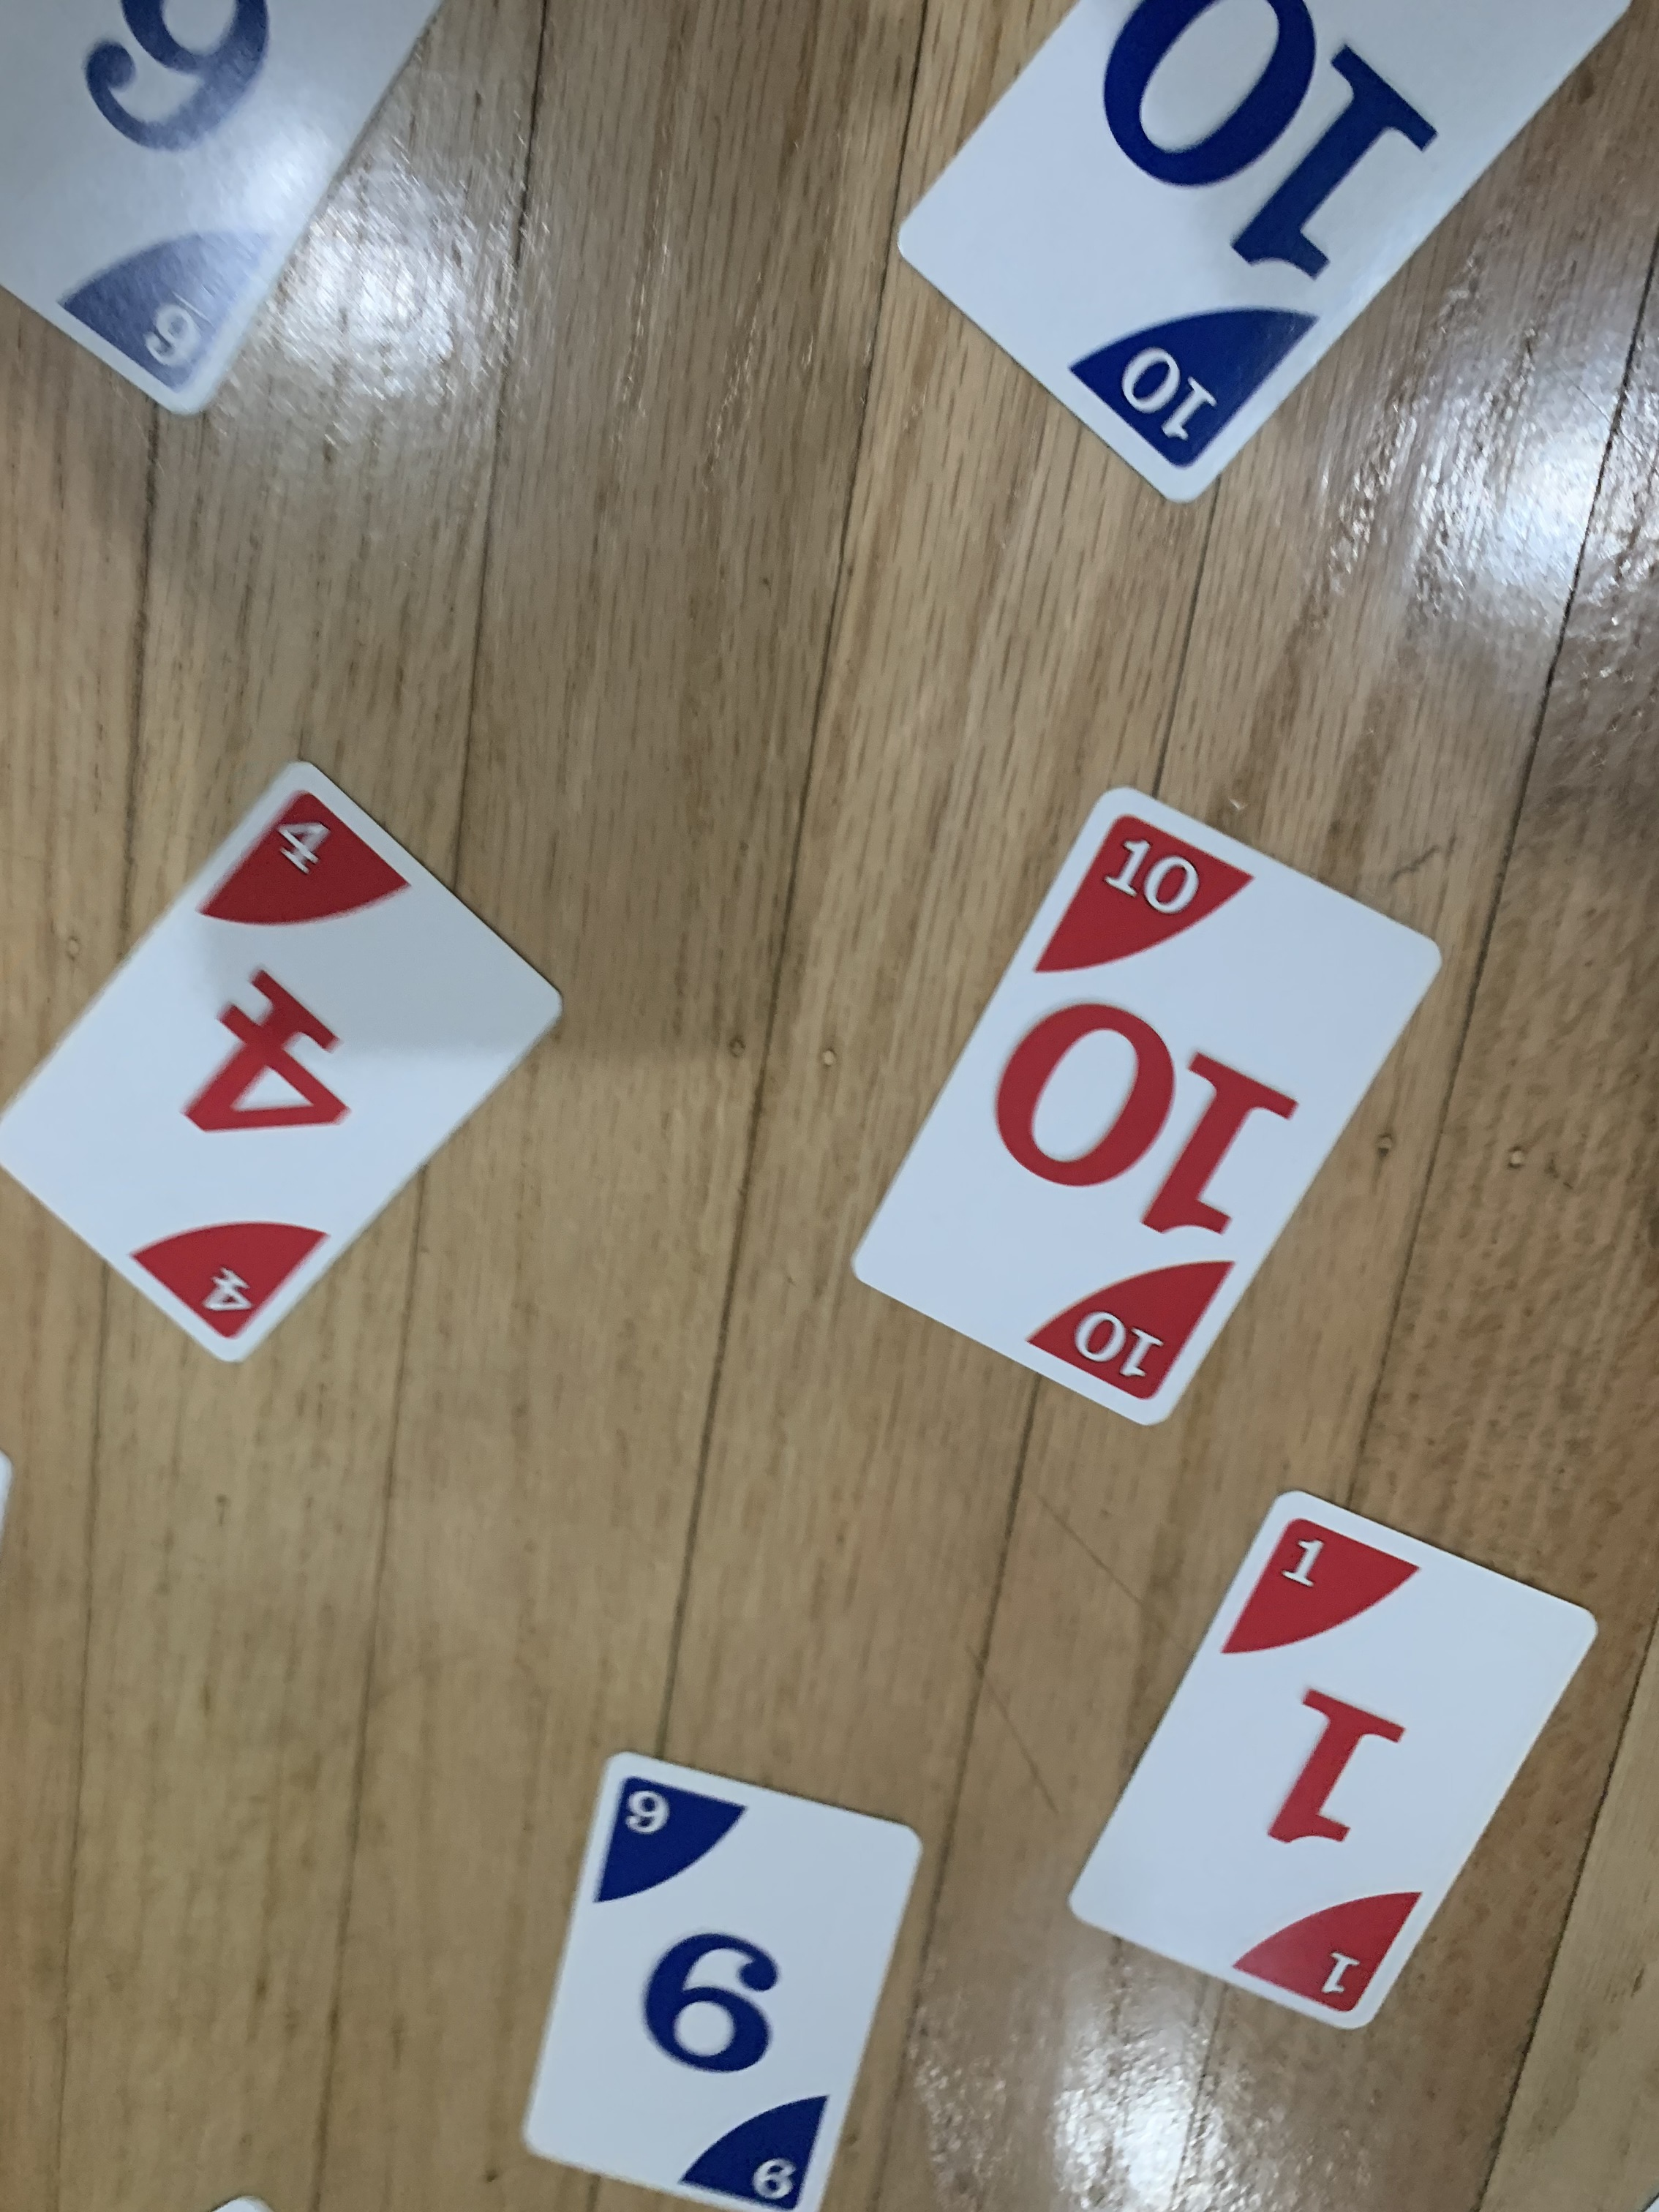four: (12, 742, 584, 1400)
one: (1065, 1477, 1610, 2045)
six: (483, 1745, 924, 2212)
ten: (836, 773, 1450, 1449)
